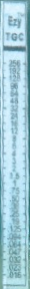number: (7, 248, 24, 256), (7, 233, 23, 241), (6, 264, 22, 272), (7, 241, 24, 248), (6, 272, 23, 279), (7, 256, 23, 263), (7, 225, 22, 232), (8, 59, 21, 67), (8, 75, 21, 83), (9, 187, 21, 195), (10, 210, 22, 218), (8, 67, 21, 74), (9, 196, 22, 203), (9, 203, 22, 210), (9, 218, 22, 225), (9, 83, 20, 91), (9, 172, 21, 179), (10, 90, 20, 98), (9, 97, 19, 105), (10, 104, 19, 112), (10, 112, 19, 120), (10, 127, 19, 135), (9, 120, 19, 127), (10, 142, 18, 150), (11, 135, 18, 142), (11, 158, 18, 165), (10, 166, 18, 172), (11, 150, 17, 157), (13, 180, 18, 187)
